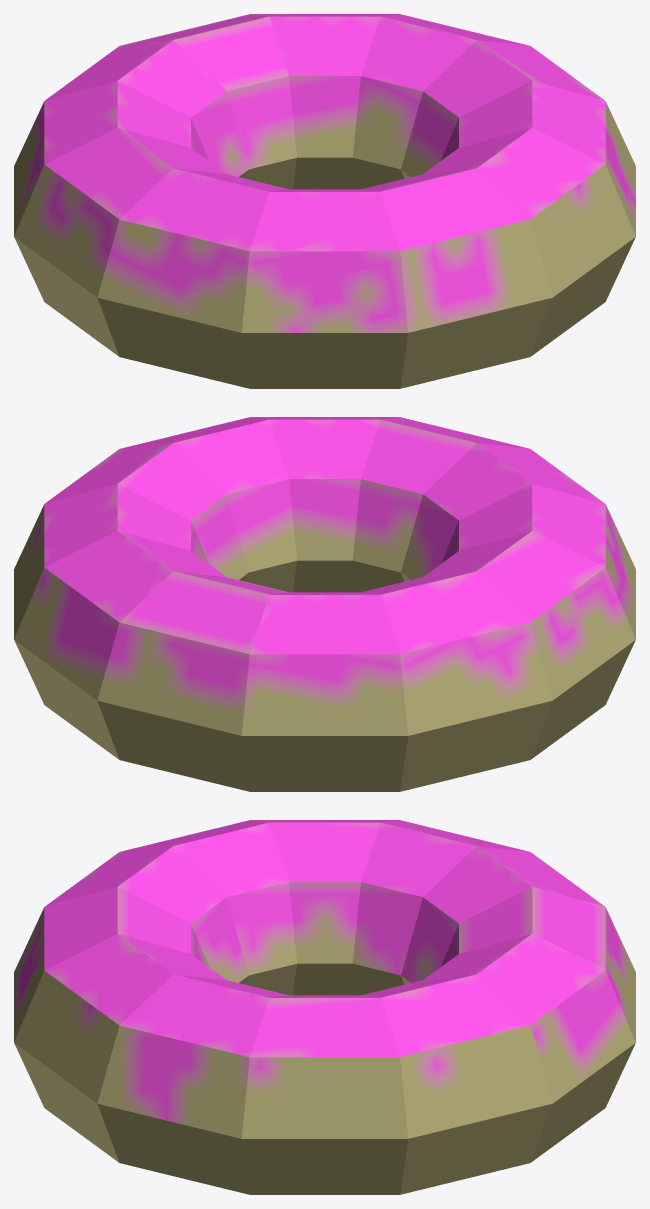
Rendered from donut.fbx.
The picture shows the model from 3 angles, top to bottom: view 1: azimuth 30°, elevation 25°; view 2: azimuth 150°, elevation 25°; view 3: azimuth 270°, elevation 25°; orthographic projection.
Visible parts, largest first — view 1: torus; view 2: torus; view 3: torus.
Boxes of the visible parts, box(x1,y1,x2,y2) form: torus: box(14, 14, 635, 388); torus: box(14, 417, 635, 791); torus: box(14, 820, 635, 1194).
Bounding box in the file's own units: 150 × 51.76 × 150.
1 material, 1 textured.
